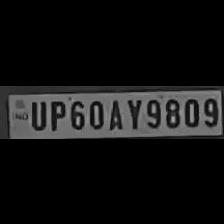0: (86, 96, 106, 130), (182, 94, 200, 128)
6: (67, 97, 85, 130)
8: (164, 94, 181, 128)
9: (142, 96, 162, 128), (200, 93, 218, 127)
A: (106, 97, 124, 131)
P: (47, 97, 65, 130)
U: (28, 97, 46, 130)
Y: (122, 96, 142, 130)
